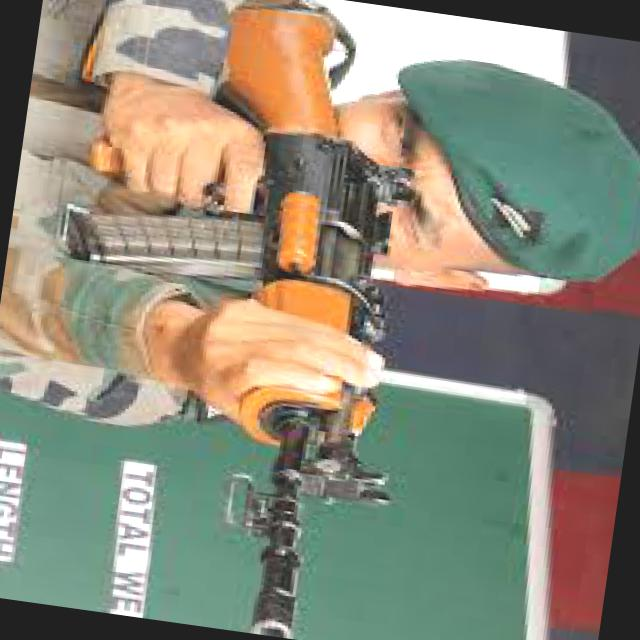long weapon: (70, 0, 451, 620)
